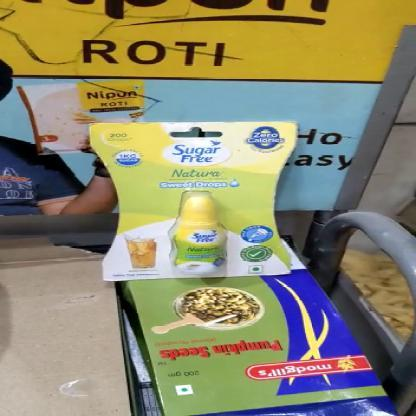SUGAR FREE NATURA SWEET DROPS: (86, 123, 298, 281)
